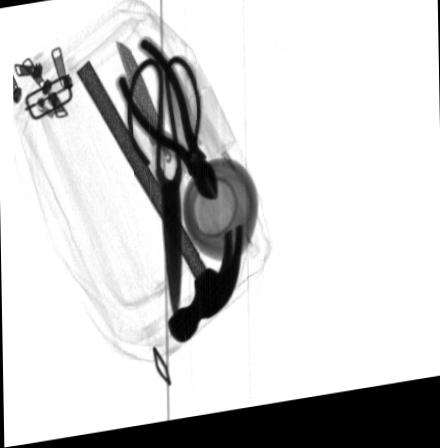Hammer: (73, 59, 243, 349)
Knife: (110, 42, 174, 170)
Pliers: (113, 39, 219, 208)
Scissors: (123, 58, 200, 323)
